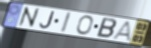A: (111, 21, 132, 43)
B: (95, 17, 118, 40)
I: (59, 11, 73, 34)
J: (39, 11, 56, 30)
N: (17, 6, 41, 28)
O: (76, 15, 95, 36)
